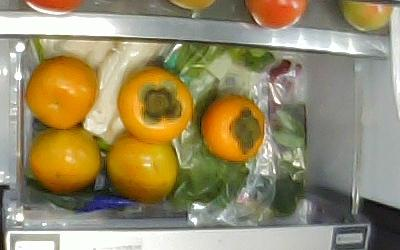persimmon: (118, 68, 193, 144), (25, 56, 97, 129), (106, 133, 178, 204), (27, 127, 102, 195), (201, 95, 266, 163)
